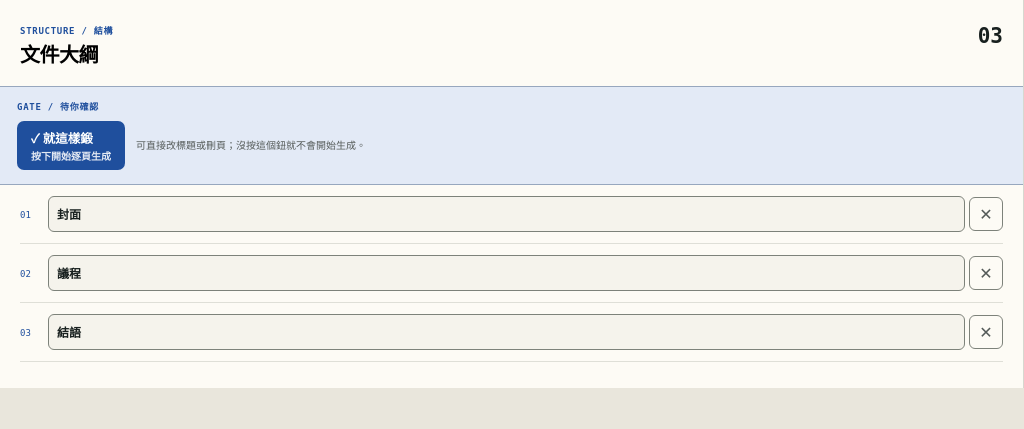
送出失敗 → ConfirmBar 顯示錯誤,可重試
The image size is (1024, 429).
Click the button "✓ 就這樣鍛 按下開始逐頁生成".
click(71, 146)  # box [17,121,125,170]
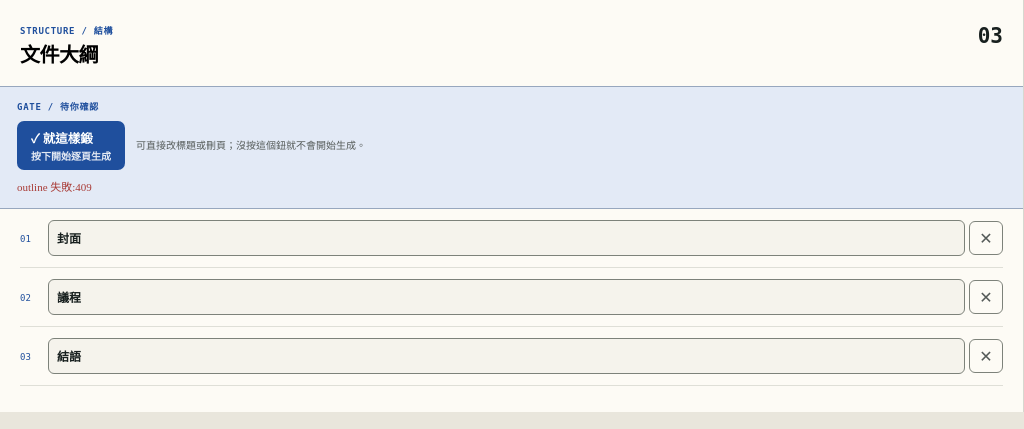
expect the message shows "409": met, box [17,181,92,193]
